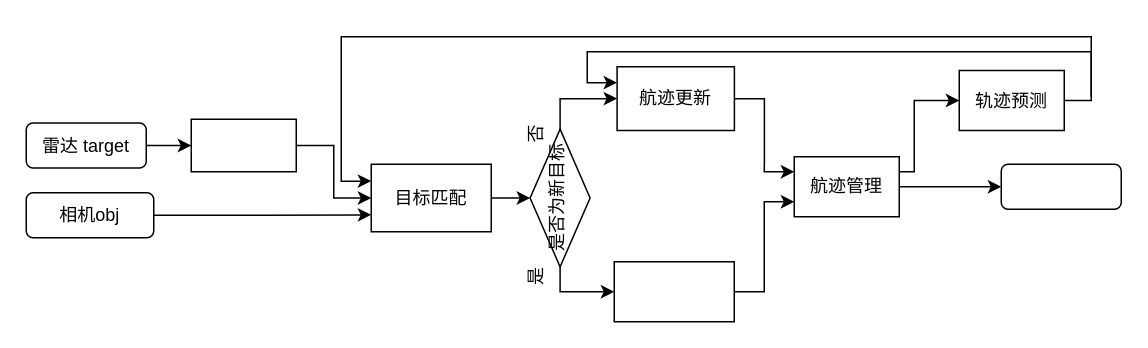
Some shapes in this 1148 by 348 pixel diagram are drawn without their labels. Each missing label, with the box of its shape:
新航迹生成: (613, 260, 734, 322)
聚类: (190, 118, 296, 172)
航迹输出: (1000, 163, 1121, 209)
